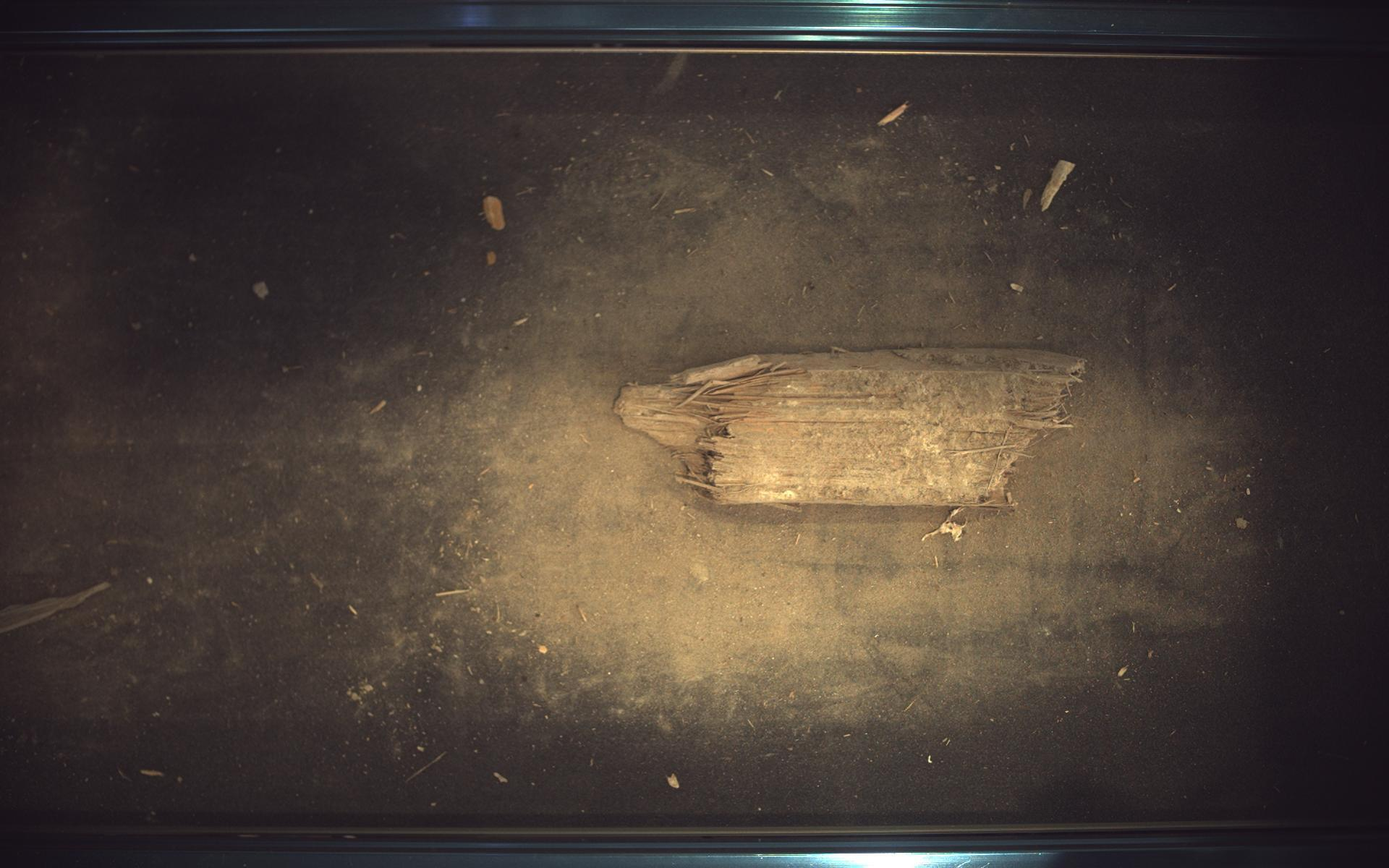wood: (616, 348, 1087, 507)
